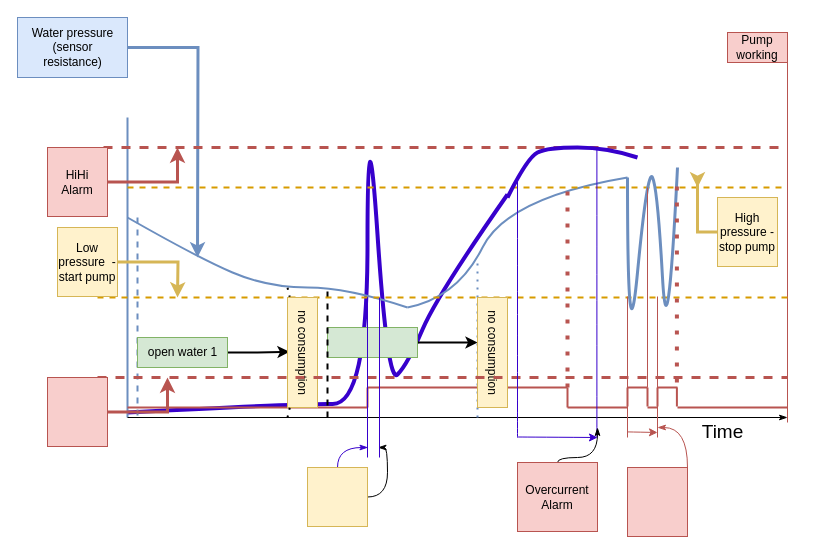
This 813x554 diagram has some shape labels left out. Here are the shapes that lost their labels. From the top down, the centre of each, then its label:
At point (372, 342): "open water 2".
At point (77, 411): "Lower LO Alarm".
At point (337, 496): "Pump start current peak".
At point (657, 501): "Too Often On Alarm".
